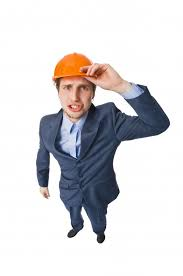Person_wearing_helmet: (51, 46, 107, 96)
